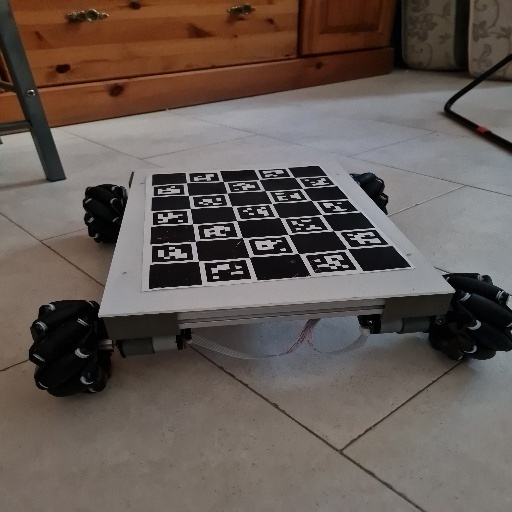Omniwheel: (29, 161, 512, 401)
